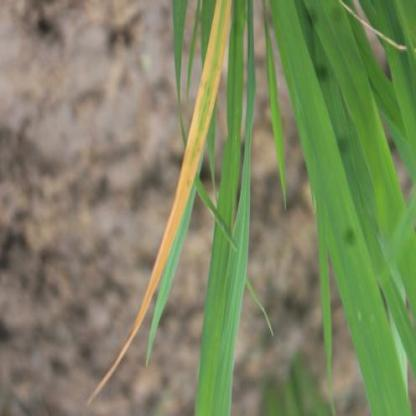Tungro: (93, 1, 232, 402)
